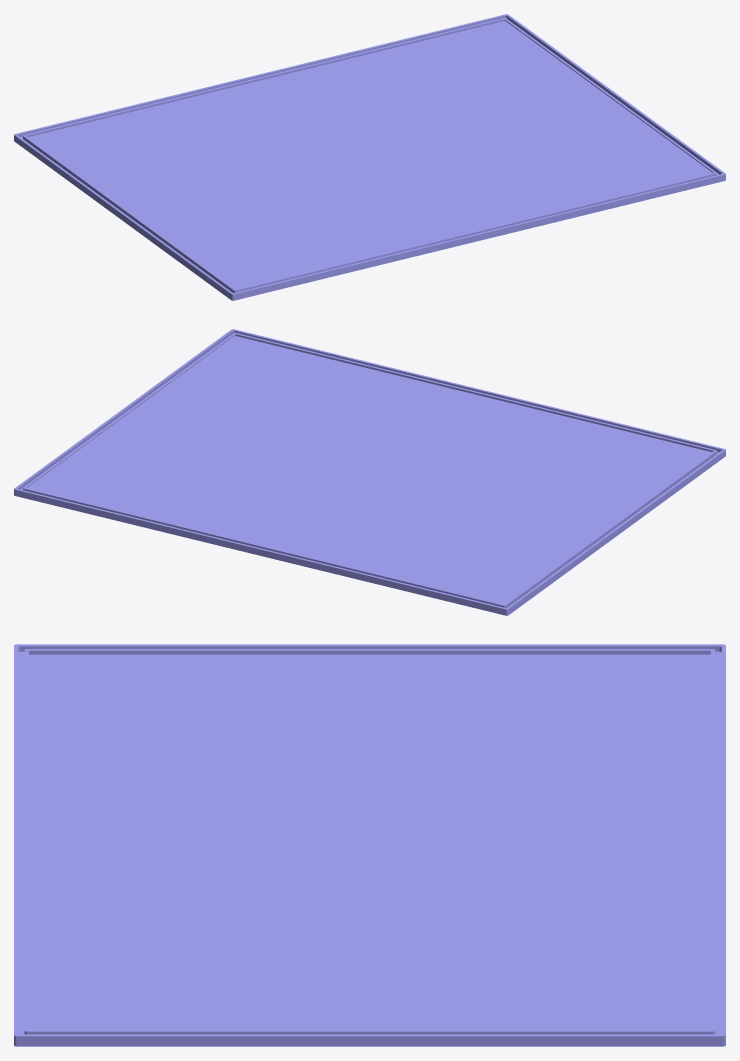
File: SCA_Type1_Floor.FBX
3 views of the same model, one above another, from view 1: azimuth 30°, elevation 25°; view 2: azimuth 150°, elevation 25°; view 3: azimuth 270°, elevation 25° (orthographic). The views are drawn at different scales.
Visible parts, largest first — view 1: SCA_Type1_Floor; view 2: SCA_Type1_Floor; view 3: SCA_Type1_Floor.
Part boxes in pixels (x1=…): SCA_Type1_Floor: x1=14, y1=14, x2=725, y2=300; SCA_Type1_Floor: x1=14, y1=329, x2=725, y2=615; SCA_Type1_Floor: x1=14, y1=644, x2=725, y2=1046.
Bounding box in the file's own units: 318 × 244 × 3.9.
